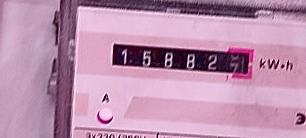1: (117, 44, 128, 63)
2: (204, 51, 217, 69)
5: (139, 47, 151, 65)
7: (226, 60, 238, 72)
8: (182, 49, 195, 68), (160, 48, 173, 66)
screen: (101, 30, 259, 85)
